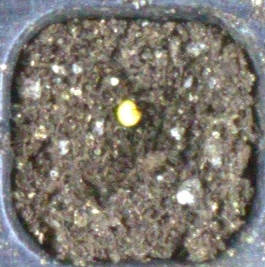pepper seed: (45, 36, 188, 163)
